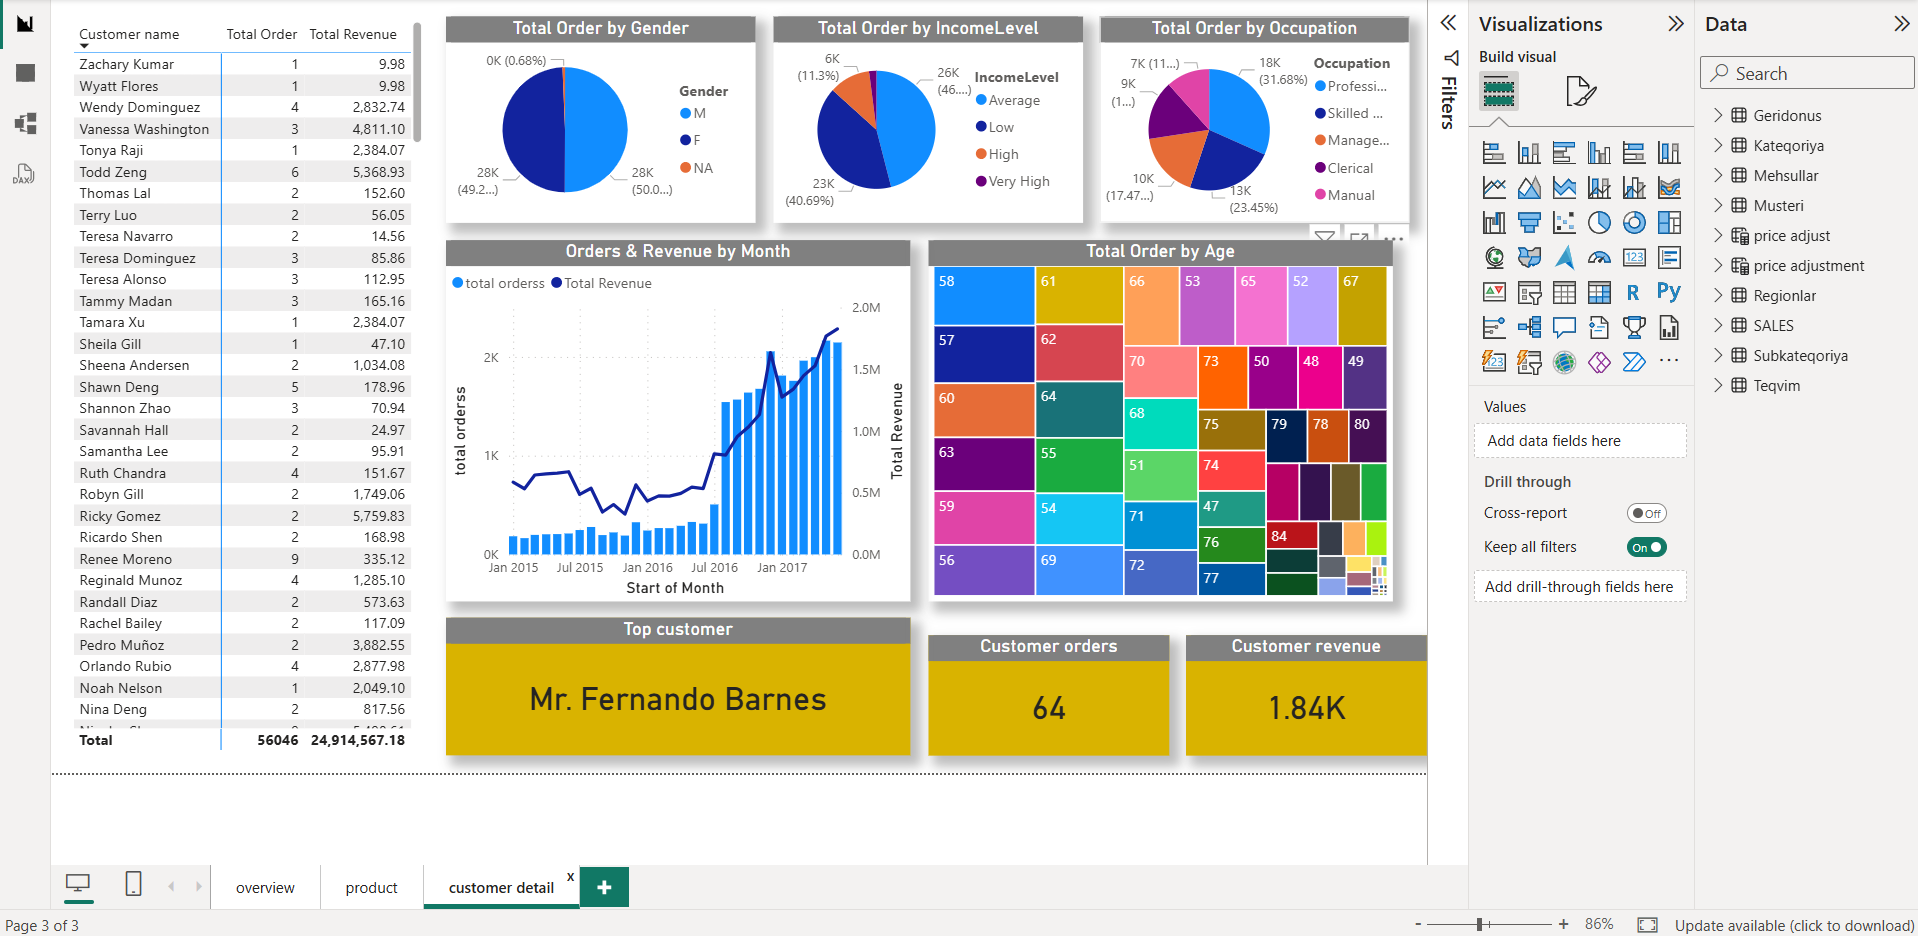

What the dashboard file says about the page in this screenshot:
{"tool":"powerbi","page":{"name":"customer detail","canvas":[1280,720],"ordinal":2},"visuals":[{"type":"pivotTable","fields":{"Rows":["Musteri.Fullname"],"Values":["SALES.Total Order","SALES.Total Revenue"]},"box":[16.3,16.3,333.7,687.2],"z":0},{"type":"pieChart","fields":{"Y":["SALES.Total Order"],"Category":["Musteri.Gender"]},"box":[368,16,288,192],"z":1000},{"type":"pieChart","fields":{"Category":["Musteri.IncomeLevel"],"Y":["SALES.Total Order"]},"box":[672,16,288,192],"z":2000},{"type":"pieChart","fields":{"Y":["SALES.Total Order"],"Category":["Musteri.Occupation"]},"box":[976,16,288,192],"z":3000},{"type":"treemap","fields":{"Group":["Musteri.Age"],"Values":["SALES.Total Order"]},"box":[816,224,432,336],"z":4000},{"type":"lineStackedColumnComboChart","title":"Orders & Revenue by Month","fields":{"Y":["SALES.total orderss"],"Y2":["SALES.Total Revenue"],"Category":["Teqvim.Start of Month"]},"box":[368,224,432,336],"z":5000},{"type":"card","title":"Top customer","fields":{"Values":["Min(Musteri.Fullname)"]},"box":[368,576,432,128],"z":6000},{"type":"card","title":"Customer orders","fields":{"Values":["SALES.Total Order"]},"box":[816,592,224,112],"z":7000},{"type":"card","title":"Customer revenue","fields":{"Values":["SALES.Total Revenue"]},"box":[1056,592,224,112],"z":8000}]}

Visuals, with their boxes on the page's 1280x720 design canvas (x1, y1, x2, y2). These are canvas units, not pixel positions in the 1918x936 screenshot, which may show the page scaled, cropped or inside an application window:
pivotTable - Musteri.Fullname x SALES.Total Order: (16, 16, 350, 704)
pieChart - SALES.Total Order x Musteri.Gender: (368, 16, 656, 208)
pieChart - Musteri.IncomeLevel x SALES.Total Order: (672, 16, 960, 208)
pieChart - SALES.Total Order x Musteri.Occupation: (976, 16, 1264, 208)
treemap - Musteri.Age x SALES.Total Order: (816, 224, 1248, 560)
"Orders & Revenue by Month" lineStackedColumnComboChart: (368, 224, 800, 560)
"Top customer" card: (368, 576, 800, 704)
"Customer orders" card: (816, 592, 1040, 704)
"Customer revenue" card: (1056, 592, 1280, 704)
